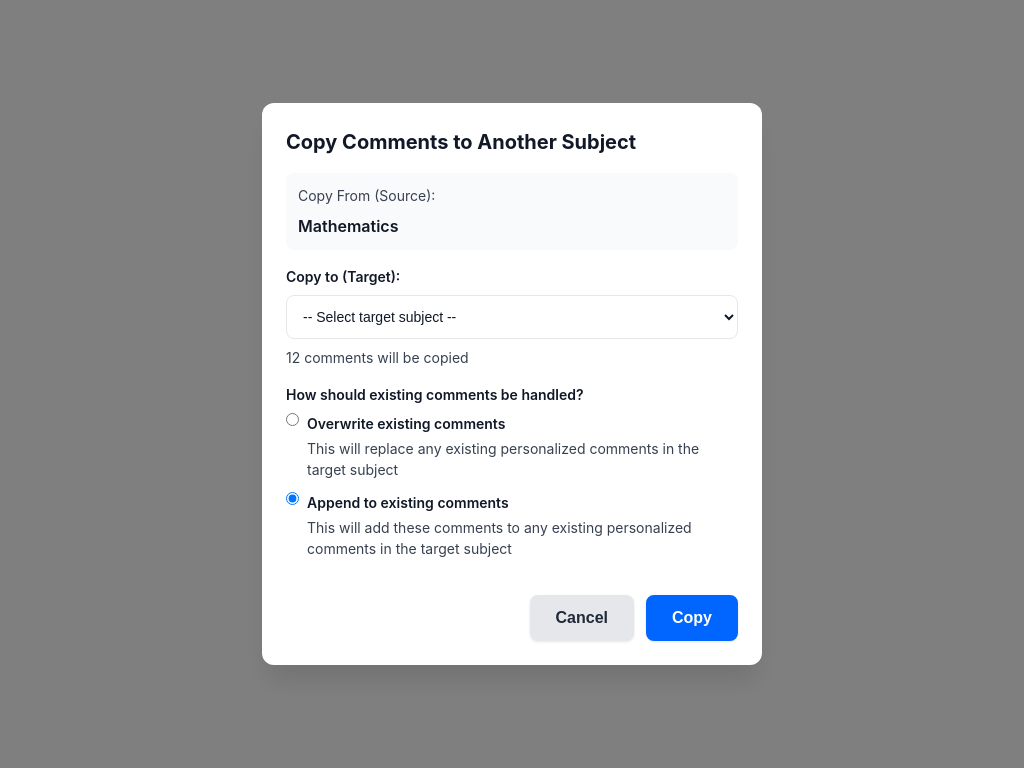
Test: CopyCommentsModal - API Integration (US-CP-004) › AC-4.3: Success Feedback with Mode Indication › should display success message with count and append indication
The image size is (1024, 768).
Select "Physics" in the dropdown labelled "Copy to (Target):" at (512, 317), box [286,295,738,339]
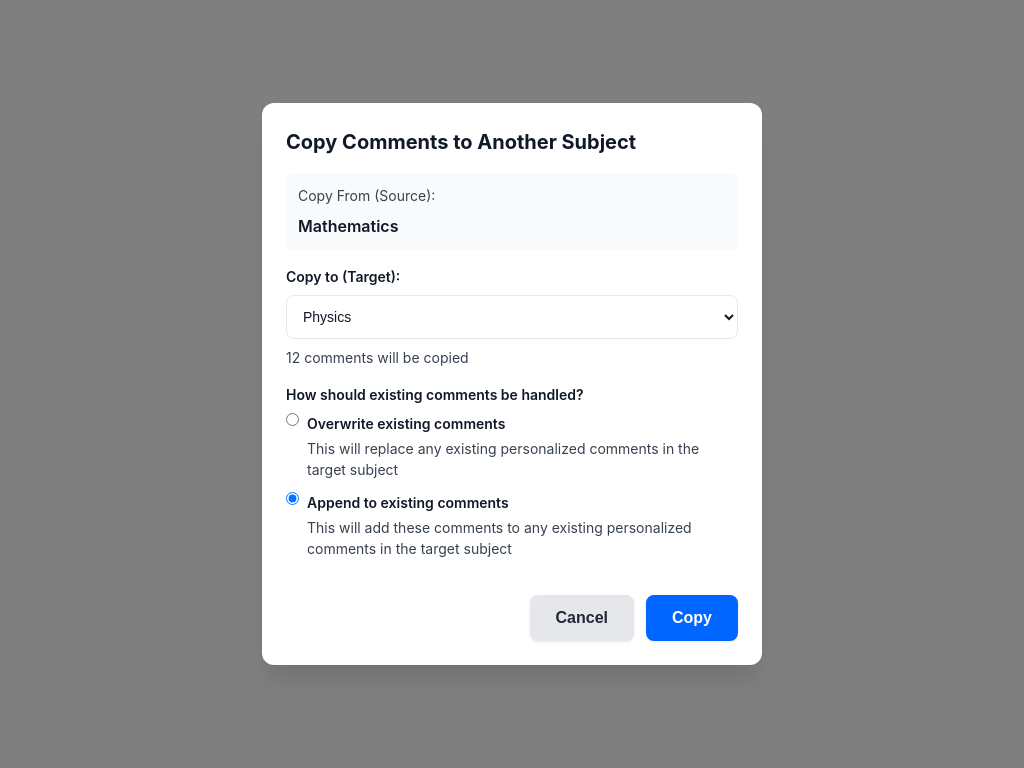
Click the button "Copy" at (692, 618), box [646,595,738,641]
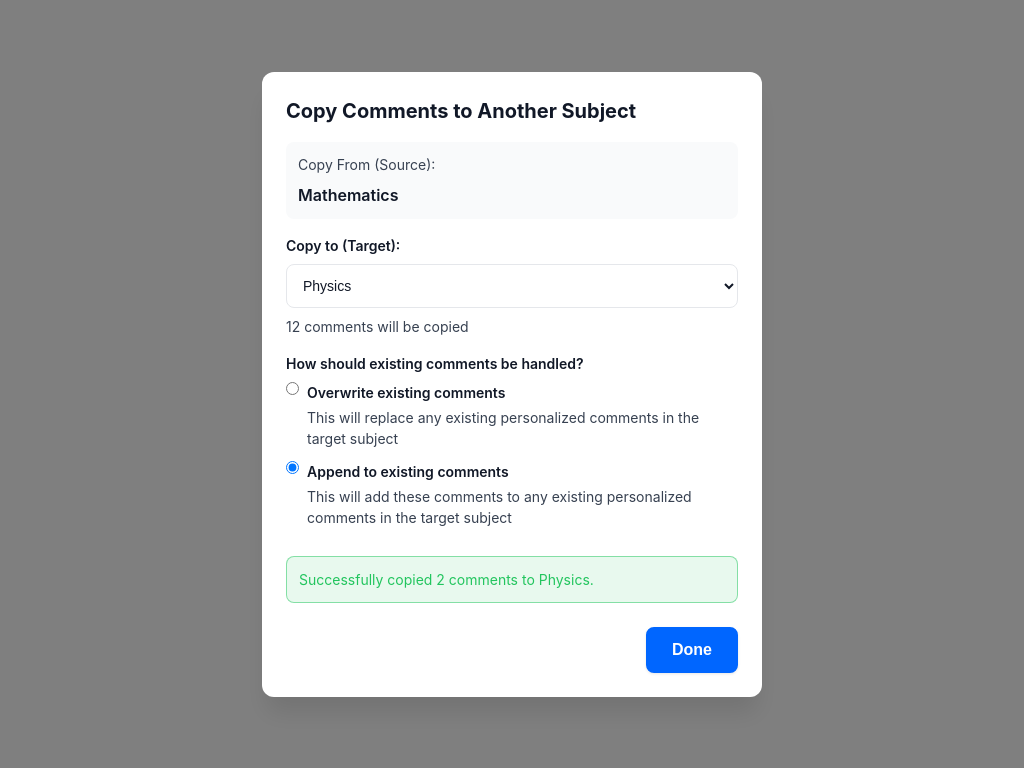
Expected: the text "Successfully copied 2 comments to Physics." is shown, [299,570,594,588]
